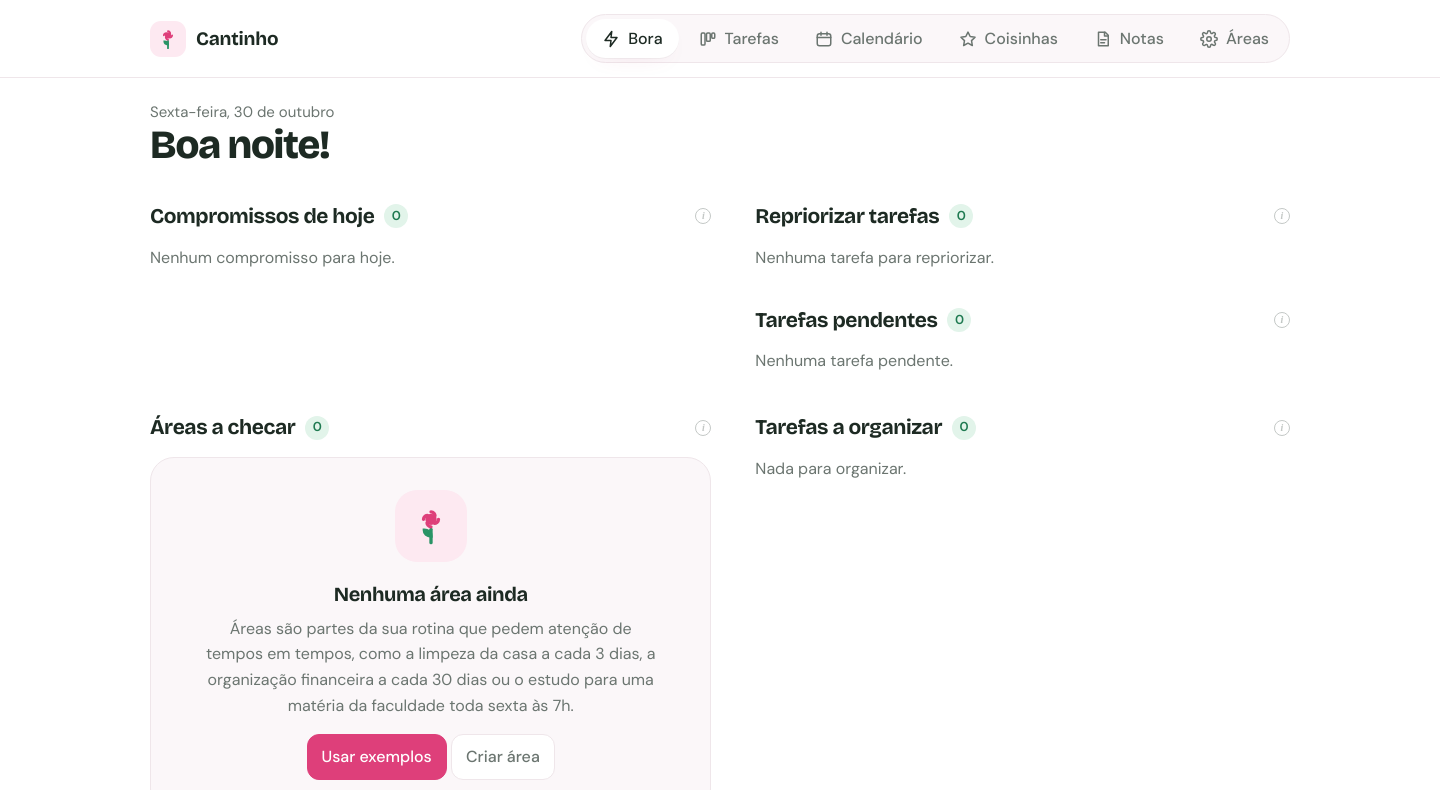
Início (Bora) › sem áreas: convida a usar exemplos e os exemplos viram dados reais
Check: the text "Nenhuma área ainda" is shown, box x1=334 y1=582 x2=528 y2=606
Click the button "Usar exemplos" at (377, 757), box x1=306 y1=734 x2=447 y2=780
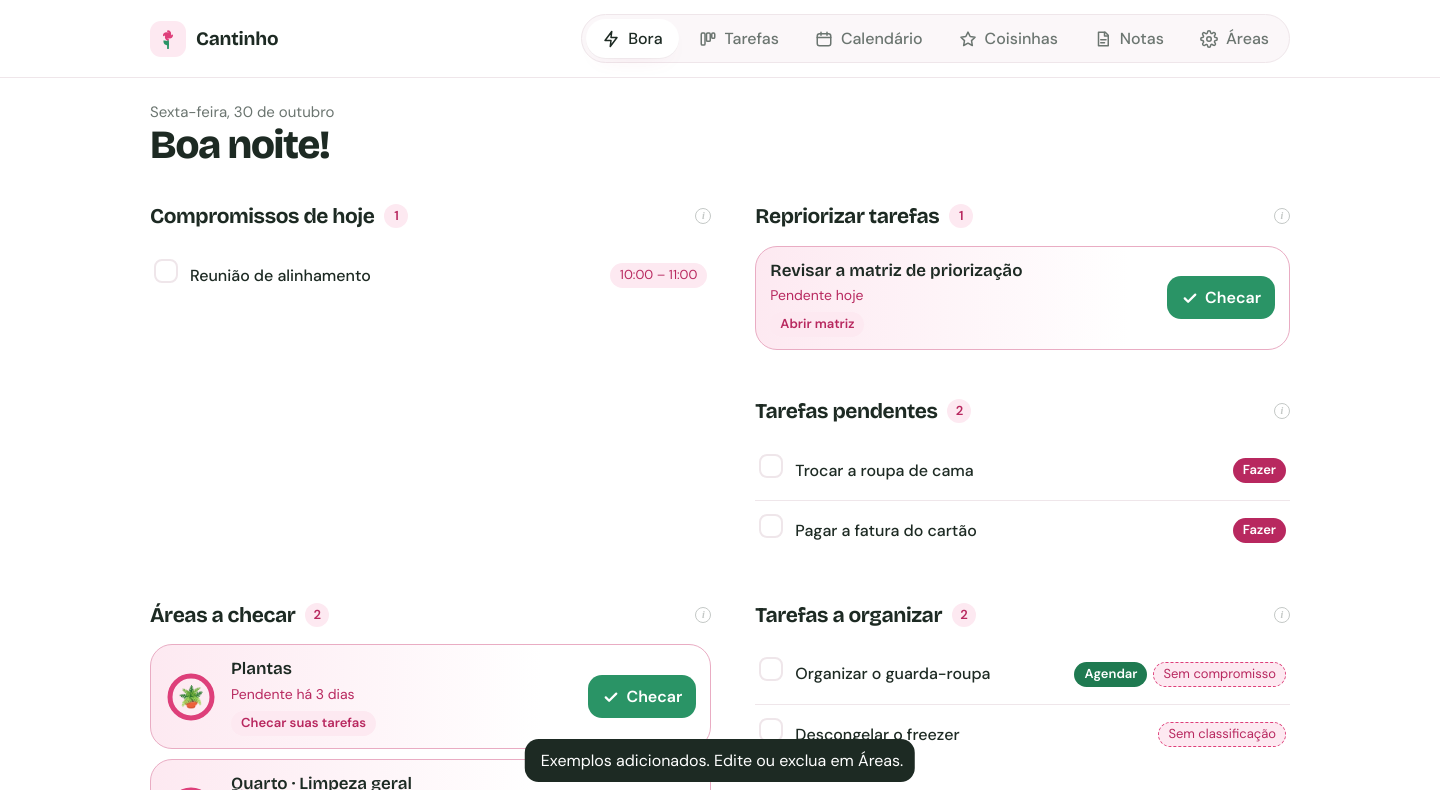
Check: the text "Exemplos adicionados. Edite ou exclua em Áreas." is shown, box x1=541 y1=749 x2=903 y2=772
Check: the button "Trocar a roupa de cama" is shown, box x1=795 y1=453 x2=974 y2=488
